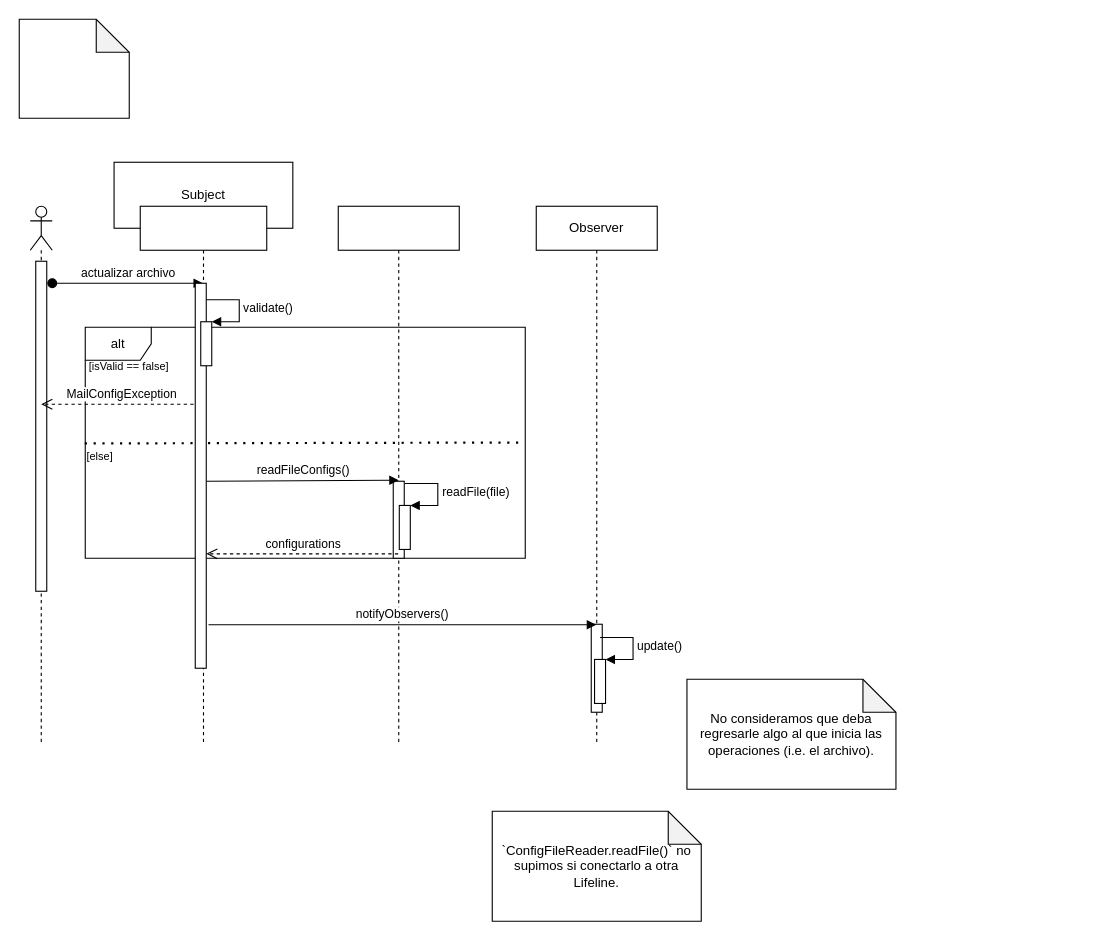
Some shapes in this 1095 by 941 pixel diagram are drawn without their labels. The box of each missing label's shape, as (x1, y1, x2, y2) in pixels:
ConfigFileReader: (337, 205, 459, 745)
MailConfigWatcher: (139, 205, 267, 745)
MailConfigWatcher implementa Subject: (18, 18, 129, 118)
